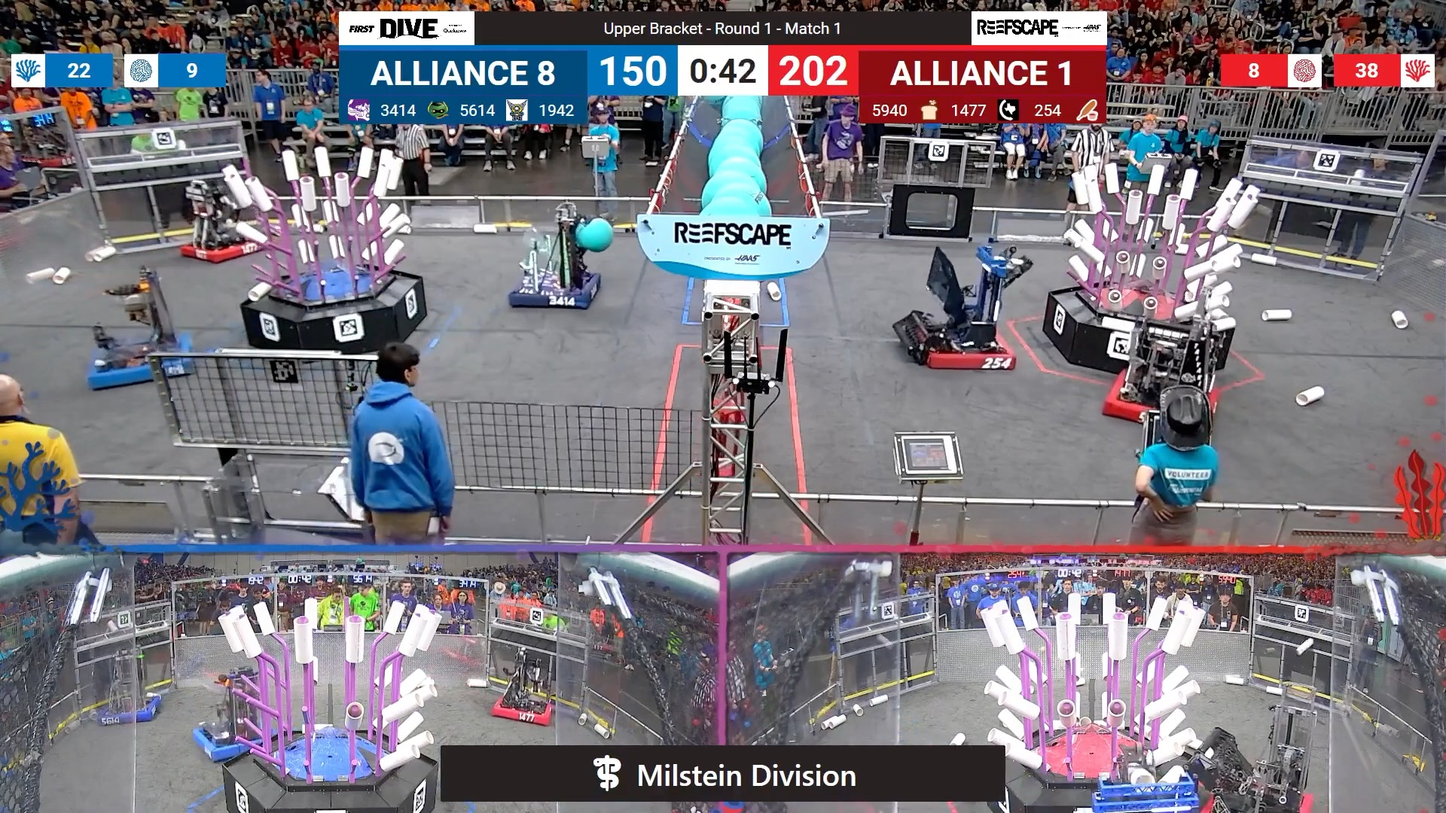bumpers: (895, 316, 1026, 381), (79, 328, 201, 391), (1096, 364, 1178, 427), (508, 266, 609, 313), (189, 720, 285, 767), (1186, 786, 1322, 813), (177, 232, 273, 269), (488, 690, 561, 729), (92, 696, 169, 731)
